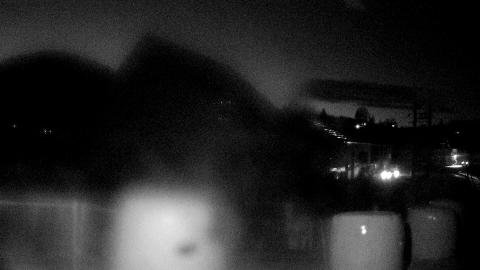sheep: (280, 200, 316, 252)
